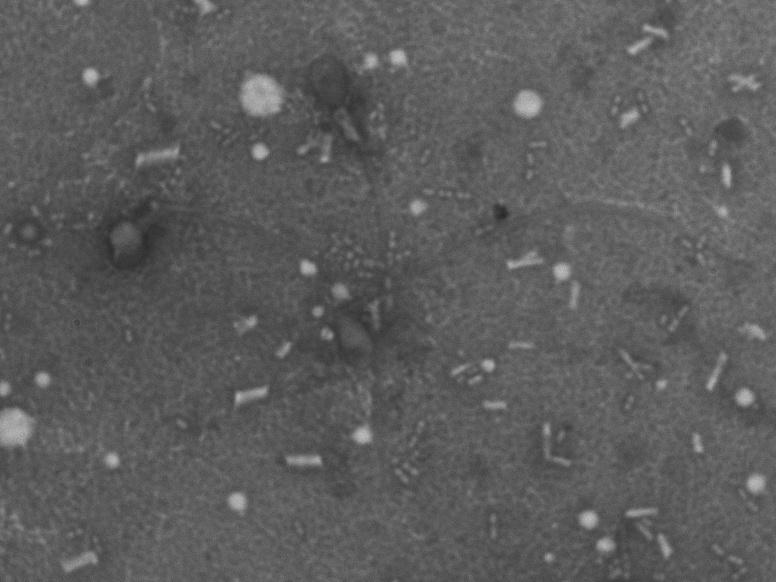Abnormal: (288, 39, 414, 284), (89, 175, 312, 304)
